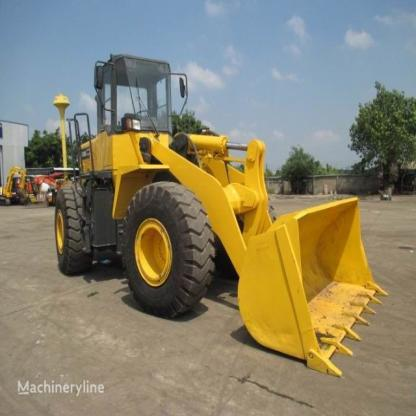bull_dozer/loader/grader: (48, 35, 390, 384)
